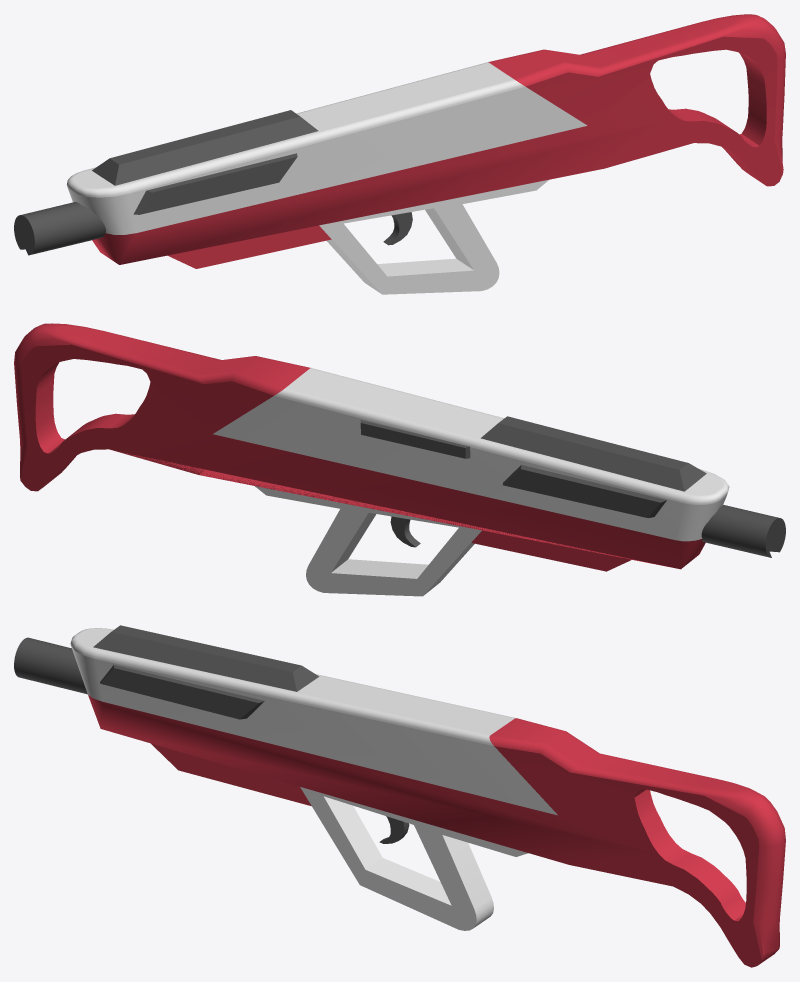
File: senjata no bone.fbx
3 views of the same model, one above another, from view 1: azimuth 30°, elevation 25°; view 2: azimuth 150°, elevation 25°; view 3: azimuth 330°, elevation 25° (orthographic).
Visible parts, largest first — view 1: senjata; view 2: senjata; view 3: senjata.
Boxes of the visible parts, <box> form: senjata: <box>14,14,785,294</box>; senjata: <box>14,323,785,596</box>; senjata: <box>14,625,785,967</box>.
Size of the model in its own units: 67.97 by 18.15 by 6.24.
